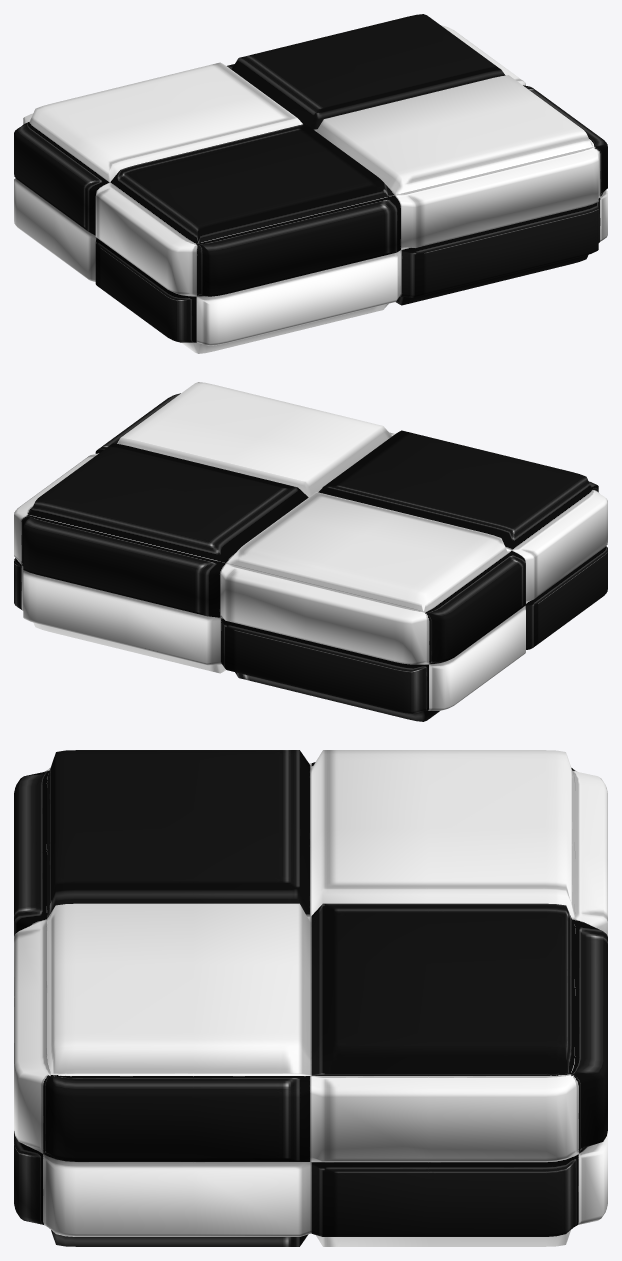
File: piattaforma.fbx
3 renders of one model, top to bottom at view 1: azimuth 30°, elevation 25°; view 2: azimuth 150°, elevation 25°; view 3: azimuth 270°, elevation 25°, orthographic. The views are drawn at different scales.
Parts seen in each view (by area): view 1: Cube; view 2: Cube; view 3: Cube.
Part boxes in pixels (x1,y1,x2,y2): Cube: [14, 14, 607, 353]; Cube: [14, 382, 607, 721]; Cube: [14, 750, 607, 1246].
Size of the model in its own units: 204 by 58.07 by 154.
